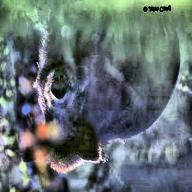boar: (20, 0, 191, 186)
